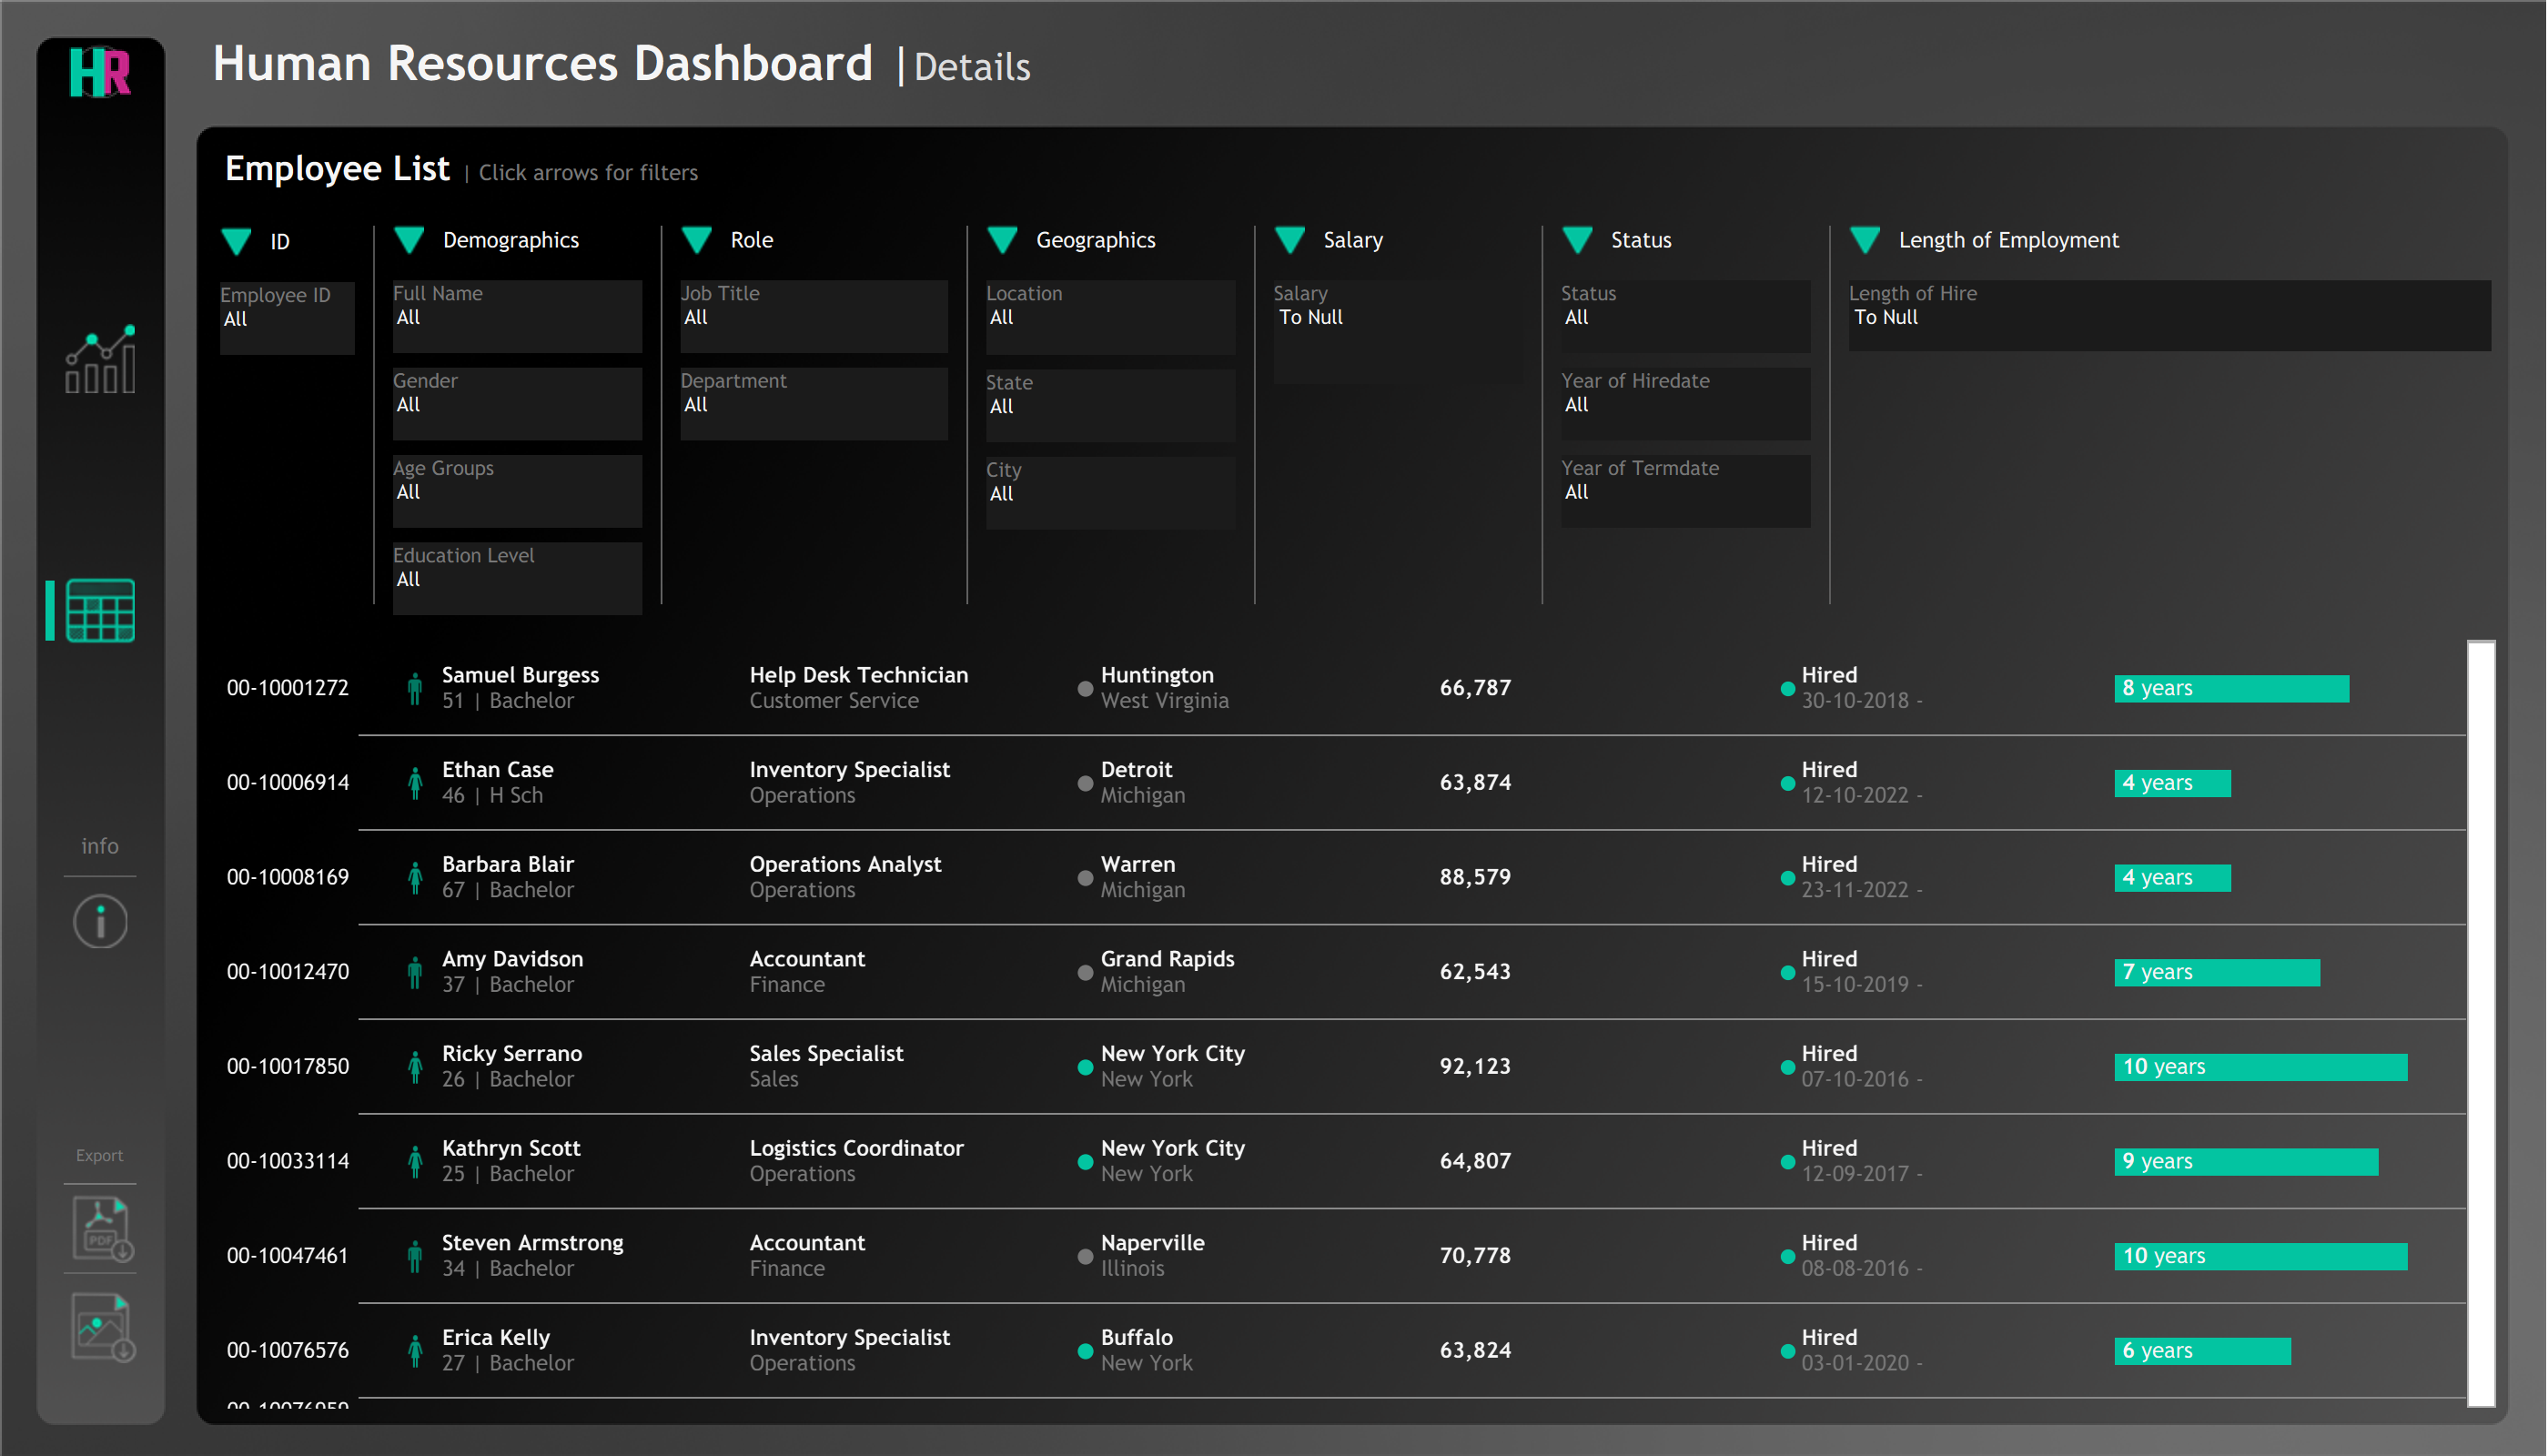

What the dashboard file says about the page in this screenshot:
{"tool":"tableau","page":{"name":"HR | Details","canvas":[1400,800],"ordinal":0},"visuals":[{"type":"image","param":"Image/background dashbaord details.png","box":[0,0,1400,800]},{"type":"text","box":[110,0,673,70]},{"type":"blank","box":[783,0,597,70]},{"type":"text","box":[92,13,1298,218]},{"type":"image","param":"Image/Logo.png","box":[20,20,70,38]},{"type":"blank","box":[20,58,70,110]},{"type":"text","box":[117,77,1256,37]},{"type":"dashboard-object","box":[117,114,25,37]},{"type":"text","box":[142,114,57,37]},{"type":"blank","box":[199,114,13,228]},{"type":"dashboard-object","box":[212,114,25,36]},{"type":"text","box":[237,114,120,36]},{"type":"blank","box":[357,114,13,228]},{"type":"dashboard-object","box":[370,114,25,36]},{"type":"text","box":[395,114,126,36]},{"type":"blank","box":[525,114,13,228]},{"type":"dashboard-object","box":[538,114,25,36]},{"type":"text","box":[563,114,120,36]},{"type":"blank","box":[683,114,13,228]},{"type":"dashboard-object","box":[696,114,25,36]},{"type":"text","box":[720.9,114,120,36]},{"type":"blank","box":[841,114,13,228]},{"type":"dashboard-object","box":[853.9,114,25,36]},{"type":"text","box":[878.9,114,120,36]},{"type":"blank","box":[998.9,114,13,228]},{"type":"dashboard-object","box":[1011.9,114,25,36]},{"type":"text","box":[1036.9,114,336.1,36]},{"type":"filter","title":"Details","param":"[federated.1ru0z8r0nqcx4818v7od20hwav44].[none:Calculation_0846406147260418:nk]","box":[212,150,145,48]},{"type":"filter","title":"Details","param":"[federated.1ru0z8r0nqcx4818v7od20hwav44].[none:Job Title:nk]","box":[370,150,155,48]},{"type":"filter","title":"Details","param":"[federated.1ru0z8r0nqcx4818v7od20hwav44].[none:Calculation_1481096908328965:nk]","box":[538,150,145,49]},{"type":"filter","title":"Details","param":"[federated.1ru0z8r0nqcx4818v7od20hwav44].[sum:Salary:qk]","box":[696,150,145,65]},{"type":"filter","title":"Details","param":"[federated.1ru0z8r0nqcx4818v7od20hwav44].[none:Calculation_0787306388230144:nk]","box":[853.9,150,145,48]},{"type":"filter","title":"Details","param":"[federated.1ru0z8r0nqcx4818v7od20hwav44].[sum:Calculation_1018479850840064:qk]","box":[1011.9,150,361.1,47]},{"type":"filter","title":"Details","param":"[federated.1ru0z8r0nqcx4818v7od20hwav44].[none:Employee_ID:nk]","box":[117,151,82,48]},{"type":"dashboard-object","box":[30,178,50,38]},{"type":"filter","title":"Details","param":"[federated.1ru0z8r0nqcx4818v7od20hwav44].[none:Gender:nk]","box":[212,198,145,48]},{"type":"filter","title":"Details","param":"[federated.1ru0z8r0nqcx4818v7od20hwav44].[none:Department:nk]","box":[370,198,155,48]},{"type":"filter","title":"Details","param":"[federated.1ru0z8r0nqcx4818v7od20hwav44].[yr:Hiredate:ok]","box":[853.9,198,145,48]},{"type":"filter","title":"Details","param":"[federated.1ru0z8r0nqcx4818v7od20hwav44].[none:State:nk]","box":[538,199,145,48]},{"type":"blank","box":[30,216,50,100]},{"type":"filter","title":"Details","param":"[federated.1ru0z8r0nqcx4818v7od20hwav44].[none:Calculation_1179556890259457:nk]","box":[212,246,145,48]},{"type":"filter","title":"Details","param":"[federated.1ru0z8r0nqcx4818v7od20hwav44].[yr:Termdate:ok]","box":[853.9,246,145,48]},{"type":"filter","title":"Details","param":"[federated.1ru0z8r0nqcx4818v7od20hwav44].[none:City:nk]","box":[538,247,145,48]},{"type":"filter","title":"Details","param":"[federated.1ru0z8r0nqcx4818v7od20hwav44].[none:Education Level:nk]","box":[212,294,145,48]},{"type":"dashboard-object","box":[30,316,50,38]},{"type":"blank","box":[25,319,5,33]},{"type":"worksheet","title":"Details","mark":"Shape","rows":["Employee_ID"],"cols":["Calculation_0846406146097153","Calculation_0846406146097153","Calculation_0846406146097153","Calculation_0846406146097153","Calculation_0846406146097153","Calculation_1018479850840064"],"box":[117,352,1256,421]},{"type":"blank","box":[30,354,50,100]},{"type":"text","box":[30,454,50,22]},{"type":"blank","box":[30,476,50,11]},{"type":"dashboard-object","box":[30,487,50,38]},{"type":"blank","box":[30,525,50,100]},{"type":"text","box":[30,625,50,20]},{"type":"blank","box":[30,645,50,11]},{"type":"dashboard-object","box":[30,656,50,38]},{"type":"blank","box":[30,694,50,11]},{"type":"dashboard-object","box":[30,705,50,48]}]}

Visuals, with their boxes in screenshot pixels (x1, y1, x2, y2), scaled from the page's 1400x800 canvas onto the 2548x1456 screenshot:
image: 0:0:2547:1455
text: 200:0:1425:127
blank: 1425:0:2512:127
text: 167:24:2530:420
image: 36:36:164:106
blank: 36:106:164:306
text: 213:140:2499:207
dashboard-object: 213:207:258:275
text: 258:207:362:275
blank: 362:207:386:622
dashboard-object: 386:207:431:273
text: 431:207:650:273
blank: 650:207:673:622
dashboard-object: 673:207:719:273
text: 719:207:948:273
blank: 955:207:979:622
dashboard-object: 979:207:1025:273
text: 1025:207:1243:273
blank: 1243:207:1267:622
dashboard-object: 1267:207:1312:273
text: 1312:207:1531:273
blank: 1531:207:1554:622
dashboard-object: 1554:207:1600:273
text: 1600:207:1818:273
blank: 1818:207:1842:622
dashboard-object: 1842:207:1887:273
text: 1887:207:2499:273
"Details" filter: 386:273:650:360
"Details" filter: 673:273:955:360
"Details" filter: 979:273:1243:362
"Details" filter: 1267:273:1531:391
"Details" filter: 1554:273:1818:360
"Details" filter: 1842:273:2499:359
"Details" filter: 213:275:362:362
dashboard-object: 55:324:146:393
"Details" filter: 386:360:650:448
"Details" filter: 673:360:955:448
"Details" filter: 1554:360:1818:448
"Details" filter: 979:362:1243:450
blank: 55:393:146:575
"Details" filter: 386:448:650:535
"Details" filter: 1554:448:1818:535
"Details" filter: 979:450:1243:537
"Details" filter: 386:535:650:622
dashboard-object: 55:575:146:644
blank: 45:581:55:641
"Details" worksheet (Shape marks): 213:641:2499:1407
blank: 55:644:146:826
text: 55:826:146:866
blank: 55:866:146:886
dashboard-object: 55:886:146:955
blank: 55:955:146:1137
text: 55:1137:146:1174
blank: 55:1174:146:1194
dashboard-object: 55:1194:146:1263
blank: 55:1263:146:1283
dashboard-object: 55:1283:146:1370
